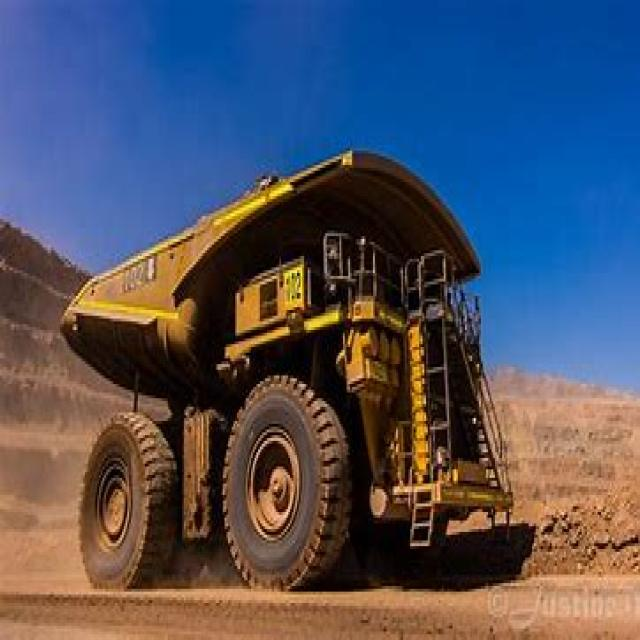dump_truck: (51, 139, 522, 586)
